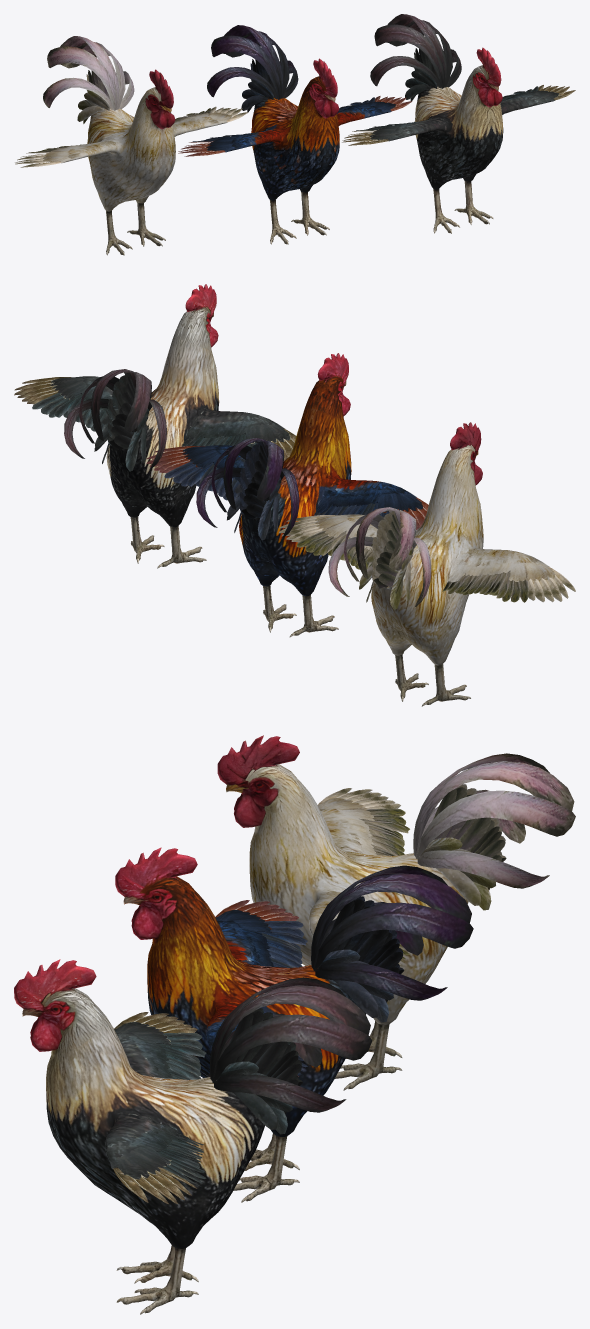
Rendered from Rooster.fbx.
The picture shows the model from 3 angles, top to bottom: view 1: azimuth 30°, elevation 25°; view 2: azimuth 150°, elevation 25°; view 3: azimuth 270°, elevation 25°; orthographic projection. The views are drawn at different scales.
Parts seen in each view (by area): view 1: sm_1_0_0.002, sm_1_0_0.001, sm_1_0_0; view 2: sm_1_0_0.001, sm_1_0_0.002, sm_1_0_0; view 3: sm_1_0_0.002, sm_1_0_0, sm_1_0_0.001.
Boxes of the visible parts, x1,y1,x2,y2 form: sm_1_0_0.002: [342, 14, 575, 233]; sm_1_0_0.001: [15, 36, 248, 255]; sm_1_0_0: [178, 25, 412, 244]; sm_1_0_0.001: [279, 422, 575, 706]; sm_1_0_0.002: [14, 284, 296, 568]; sm_1_0_0: [146, 353, 428, 637]; sm_1_0_0.002: [14, 959, 372, 1314]; sm_1_0_0: [115, 847, 473, 1202]; sm_1_0_0.001: [217, 735, 575, 1090].
Bounding box in the file's own units: 164 × 61.08 × 93.79.
Materials: 3 (3 with a texture image).
